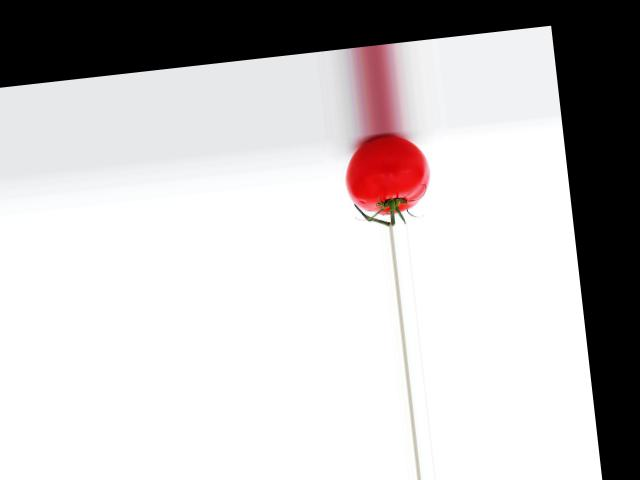tomato: (342, 130, 435, 218)
